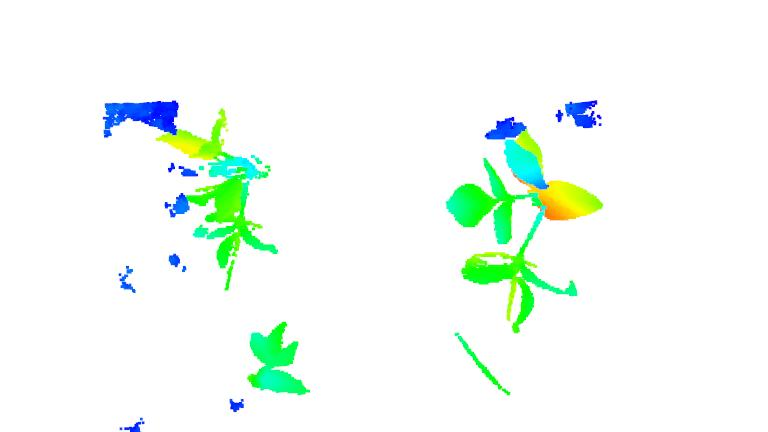mungbean: (444, 114, 607, 336), (158, 104, 281, 268), (238, 315, 312, 404)
